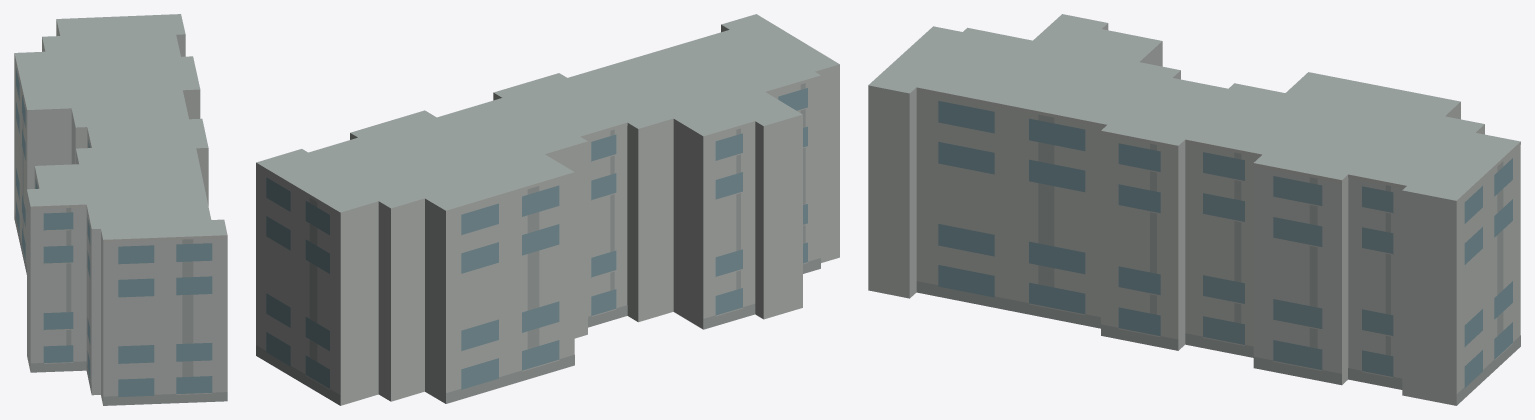
The model's file is residential-ebe67530-e01b-48a4-9ff6-df5996305506.glb.
The picture shows the model from 3 angles, left to right: view 1: azimuth 30°, elevation 25°; view 2: azimuth 150°, elevation 25°; view 3: azimuth 270°, elevation 25°; orthographic projection. The views are drawn at different scales.
Parts seen in each view (by area): view 1: residential-ebe67530-e01b-48a4-9ff6-df5996305506.tmp; view 2: residential-ebe67530-e01b-48a4-9ff6-df5996305506.tmp; view 3: residential-ebe67530-e01b-48a4-9ff6-df5996305506.tmp.
Part boxes in pixels (box(x1,y1,x2,y2)): residential-ebe67530-e01b-48a4-9ff6-df5996305506.tmp: box(14, 14, 227, 405); residential-ebe67530-e01b-48a4-9ff6-df5996305506.tmp: box(256, 14, 839, 405); residential-ebe67530-e01b-48a4-9ff6-df5996305506.tmp: box(868, 14, 1520, 405).
Bounding box in the file's own units: 29.81 × 15.25 × 43.99.
